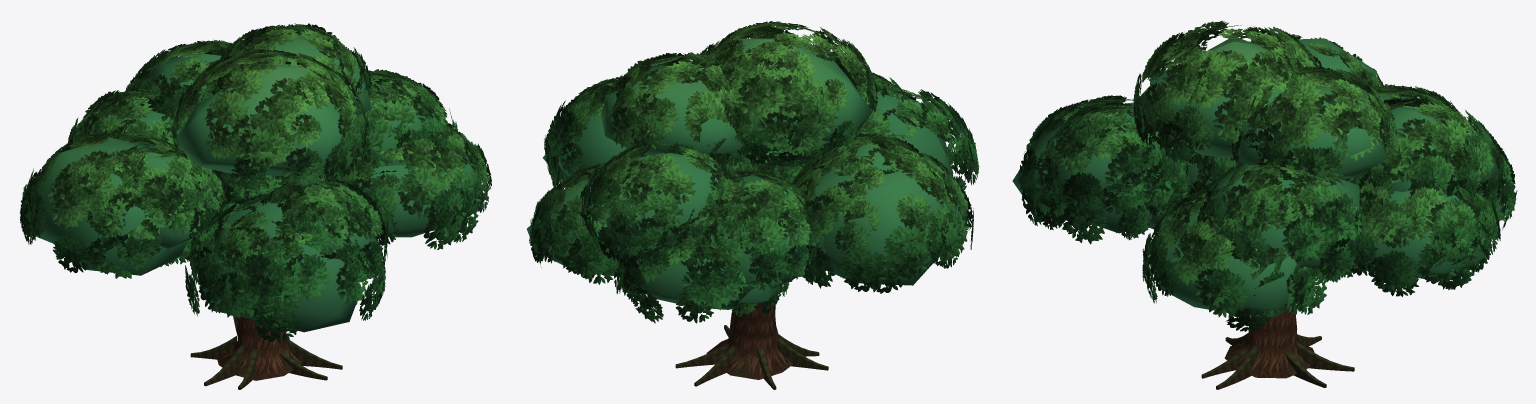
File: old_tree_4.gltf
The picture shows the model from 3 angles, left to right: view 1: azimuth 30°, elevation 25°; view 2: azimuth 150°, elevation 25°; view 3: azimuth 270°, elevation 25°; orthographic projection. The views are drawn at different scales.
Parts seen in each view (by area): view 1: LeafCards, LeafMass, Bark; view 2: LeafCards, LeafMass, Bark; view 3: LeafCards, LeafMass, Bark.
Boxes of the visible parts, x1,y1,x2,y2 form: LeafCards: (20,23,491,342); LeafMass: (30,34,483,332); Bark: (184,256,342,389); LeafCards: (529,21,979,323); LeafMass: (527,38,966,309); Bark: (675,277,828,389); LeafCards: (1018,20,1517,331); LeafMass: (1012,38,1498,317); Bark: (1201,306,1354,389).
Size of what is drawn, in the model's own units: 17.85 by 12.75 by 17.89.
3 materials, 2 textured.
